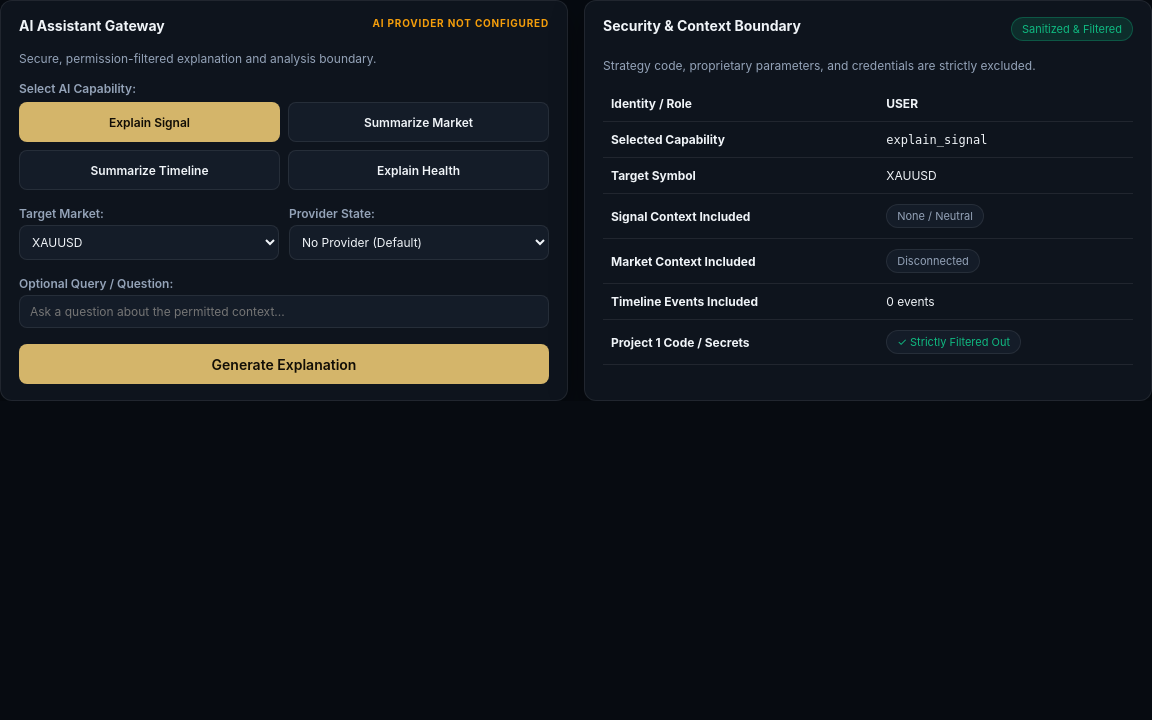
AIAssistant UI Component › handles processing request with simulated available provider
Select "Connected Provider (HTTP Adapter)" in the dropdown named "Simulate Provider" at (419, 243), box 289,225 -> 549,260
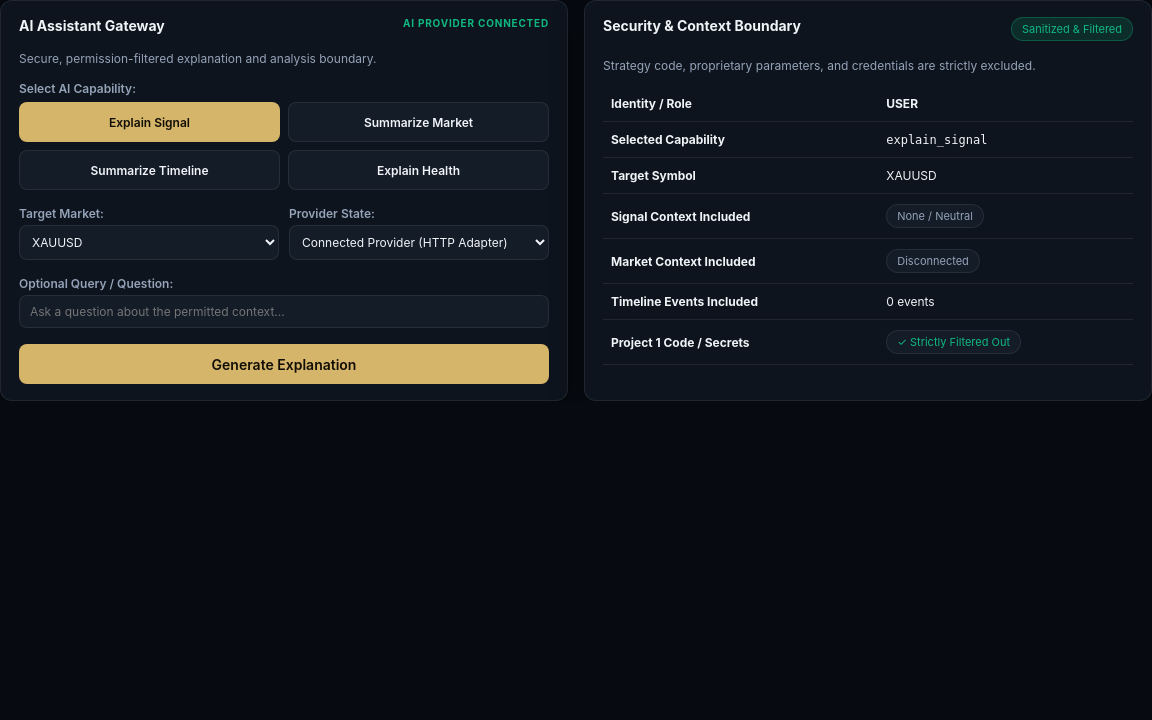
Click the button "Generate Explanation".
click(284, 364)  # box 19,344 -> 549,384
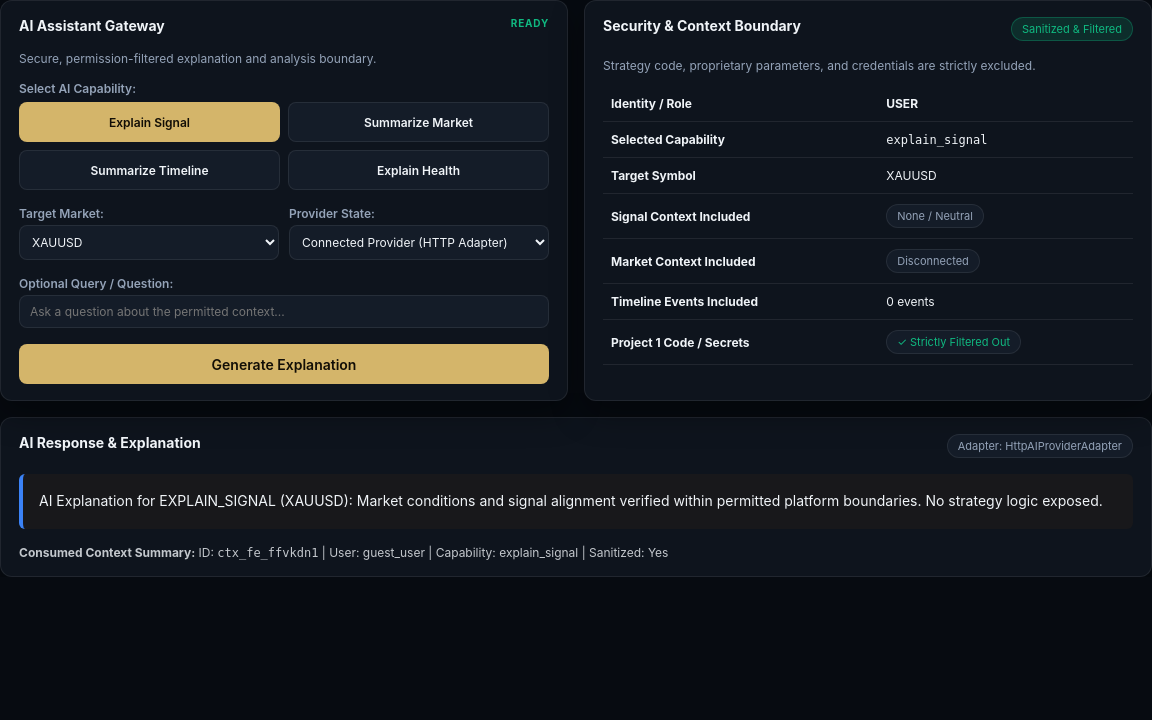
Check: the text "AI Explanation for EXPLAIN_SIGNAL (XAUUSD)" is shown, box 39,492 -> 1103,509
Check: the text "HttpAIProviderAdapter" is shown, box 1005,439 -> 1122,453
